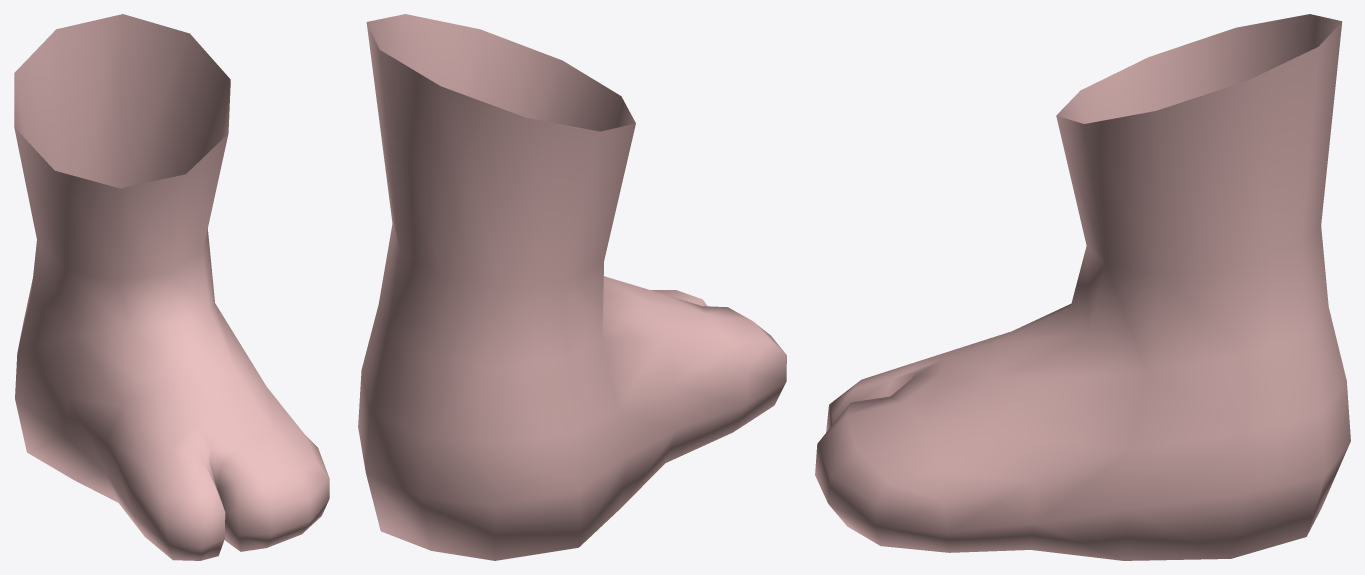
The model's file is Nendoroid_A_Foot02.fbx.
The picture shows the model from 3 angles, left to right: view 1: azimuth 30°, elevation 25°; view 2: azimuth 150°, elevation 25°; view 3: azimuth 270°, elevation 25°; orthographic projection. The views are drawn at different scales.
Visible parts, largest first — view 1: Nendoroid_A_Foot02; view 2: Nendoroid_A_Foot02; view 3: Nendoroid_A_Foot02.
Part boxes in pixels (x1,y1,x2,y2): Nendoroid_A_Foot02: (14, 14, 329, 560); Nendoroid_A_Foot02: (358, 14, 786, 560); Nendoroid_A_Foot02: (815, 14, 1350, 560).
Size of the model in its own units: 0.2517 by 0.4878 by 0.4855.
